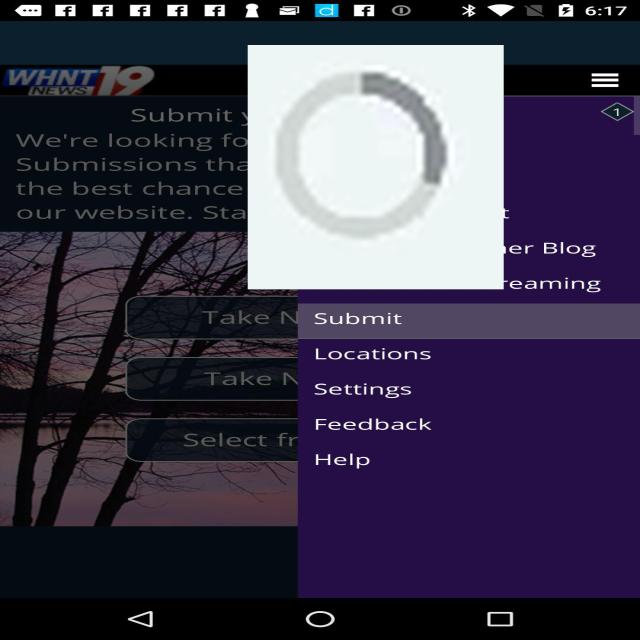misdirection: (247, 45, 503, 289)
